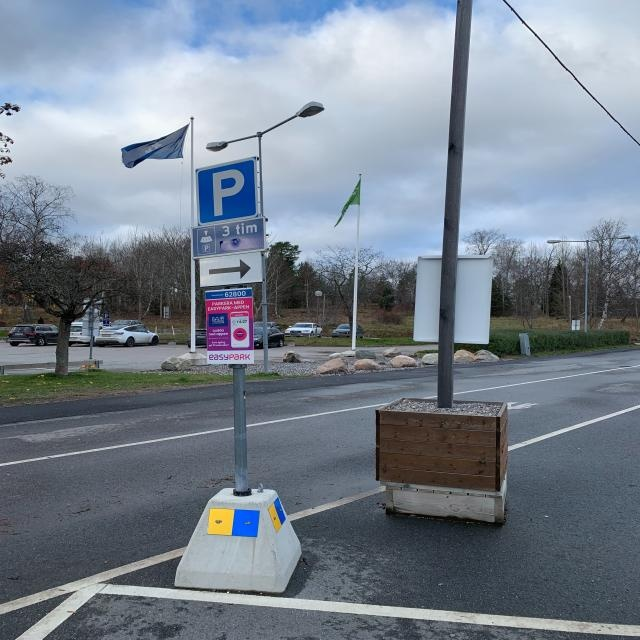avstignnigsplats: (200, 159, 258, 222)
